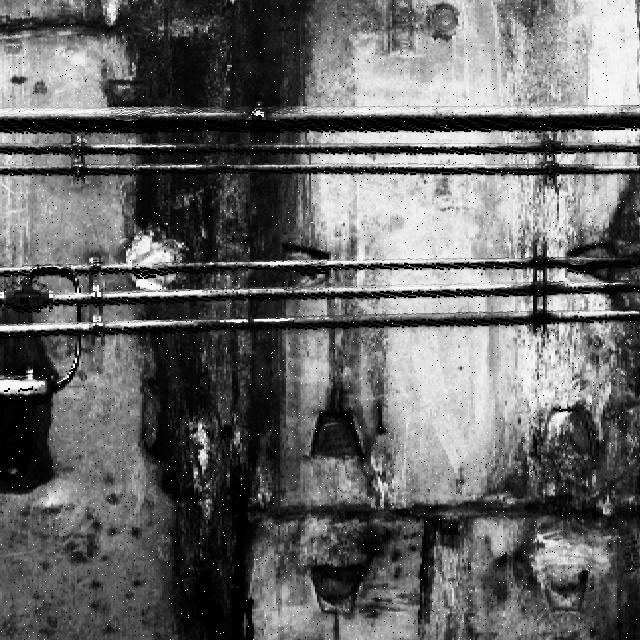leakage: (117, 0, 334, 639), (436, 161, 637, 639), (1, 284, 69, 502)
